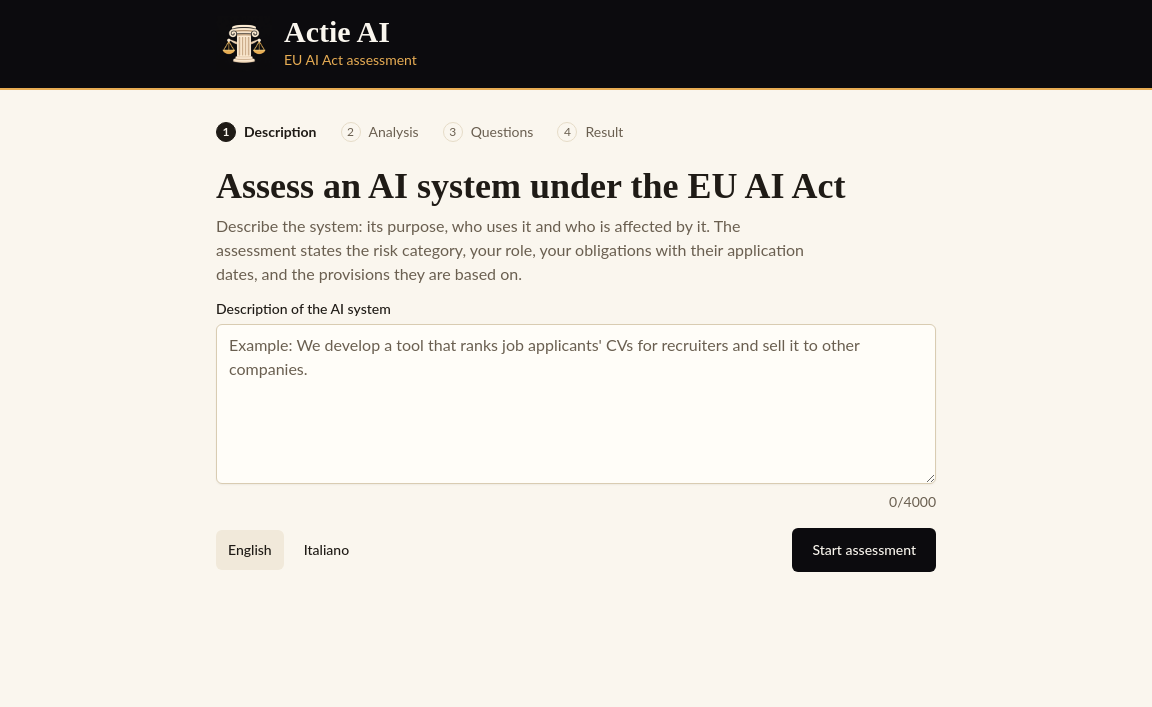
Scenario: goes from the description to the questions to the report, and keeps the id in the URL
Type "A bank scores consumers' credit-worthiness." into the text box labelled "Description of the AI system" at (576, 404), box 216,324 -> 936,484
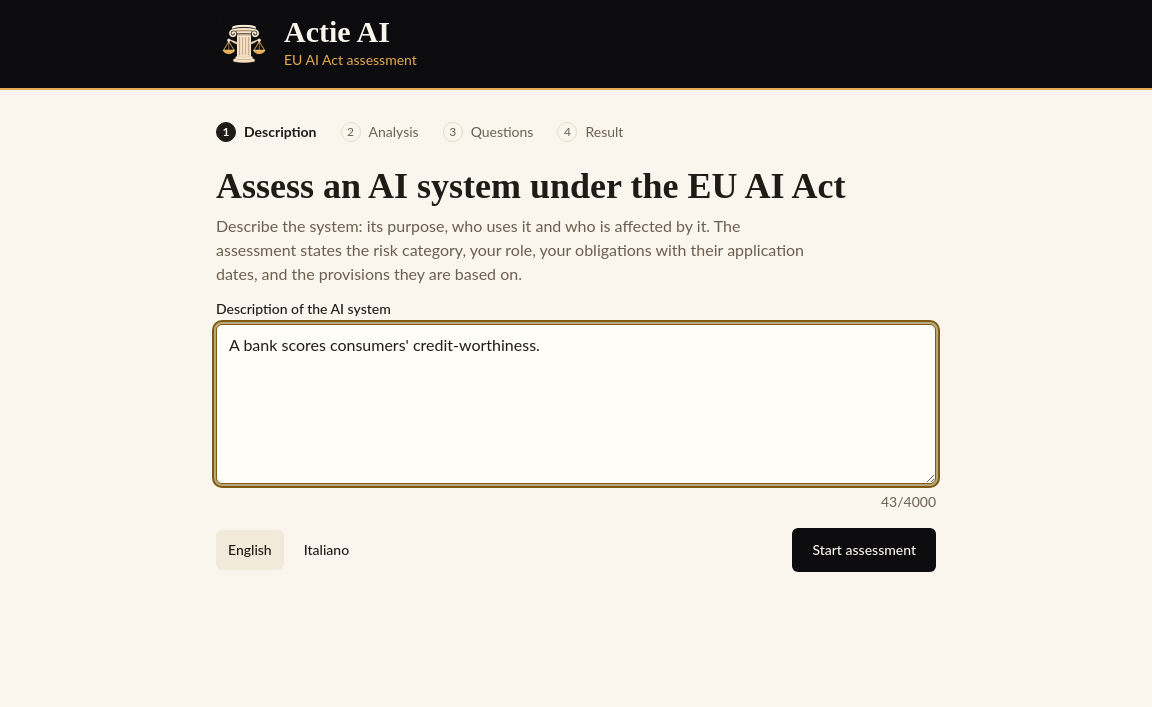
Click the button "Start assessment" at (864, 550), box 792,528 -> 936,572
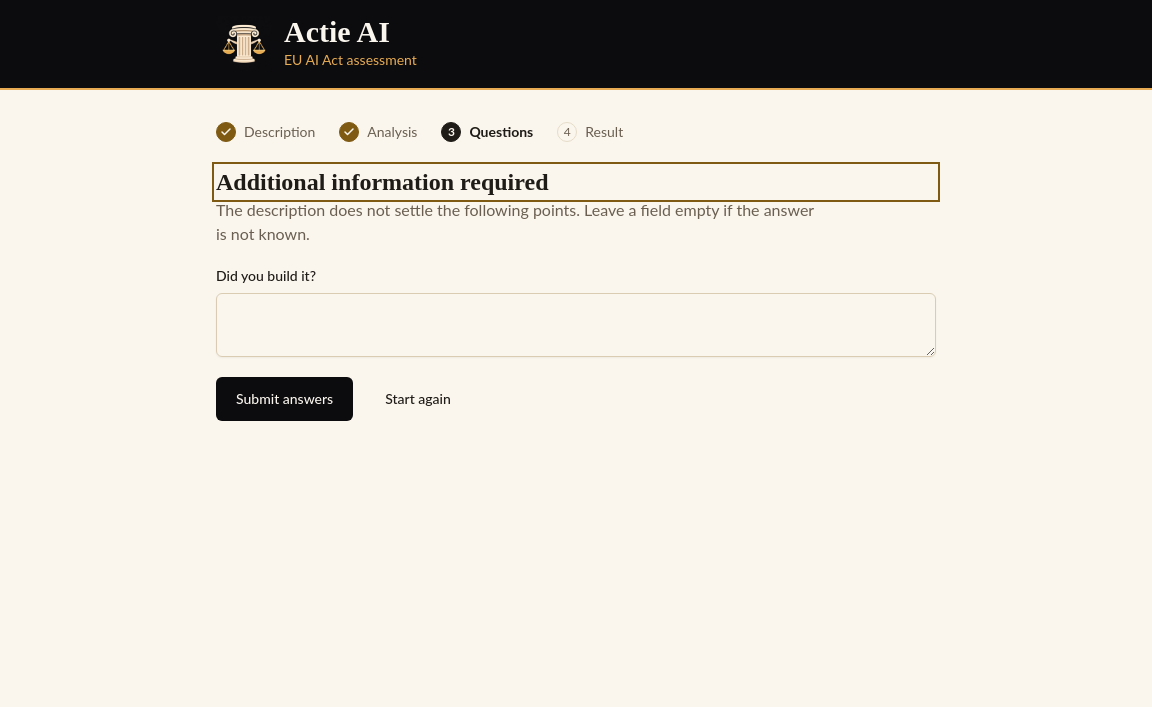
Type "Yes, and we use it." into the text box labelled "Did you build it?" at (576, 325), box 216,293 -> 936,357
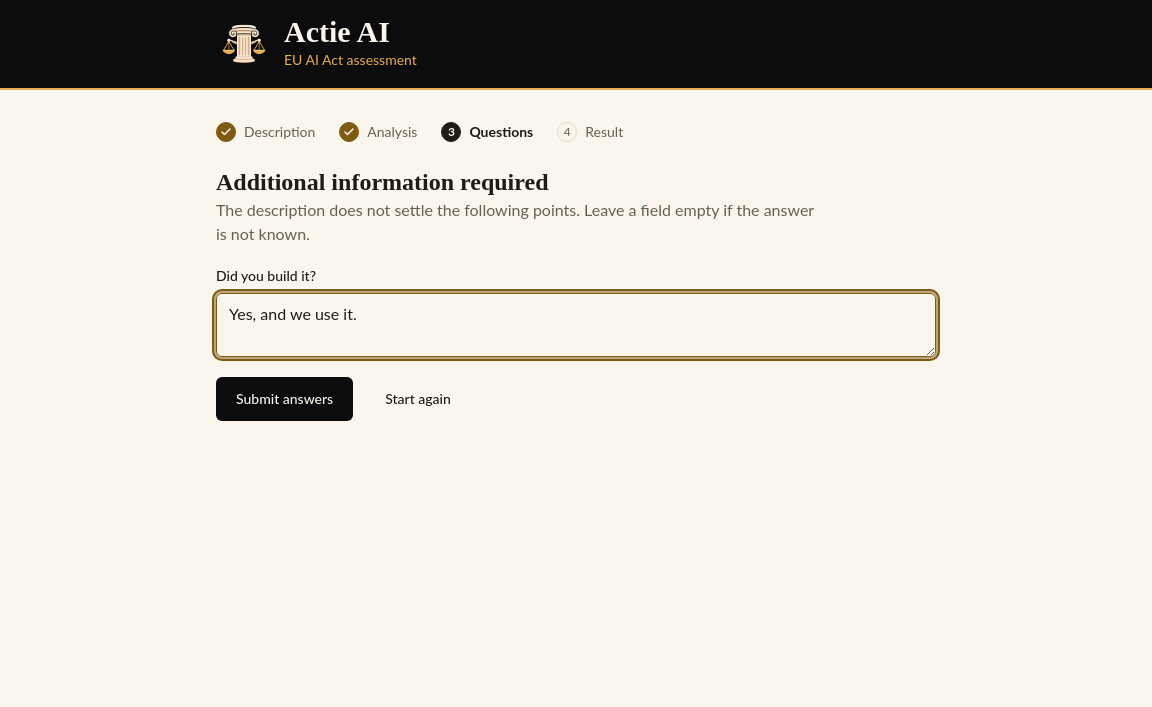
Click the button "Submit answers" at (285, 399), box 216,377 -> 353,421
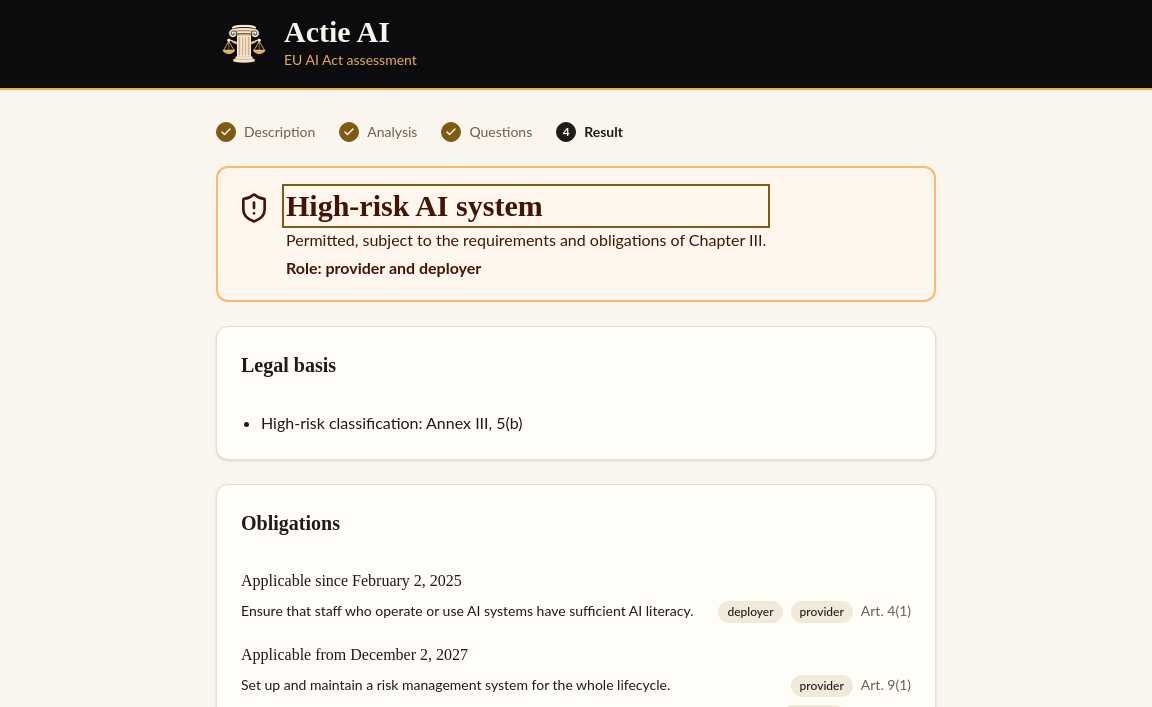
Now the heading "High-risk AI system" is shown, box 286,189 -> 543,222
